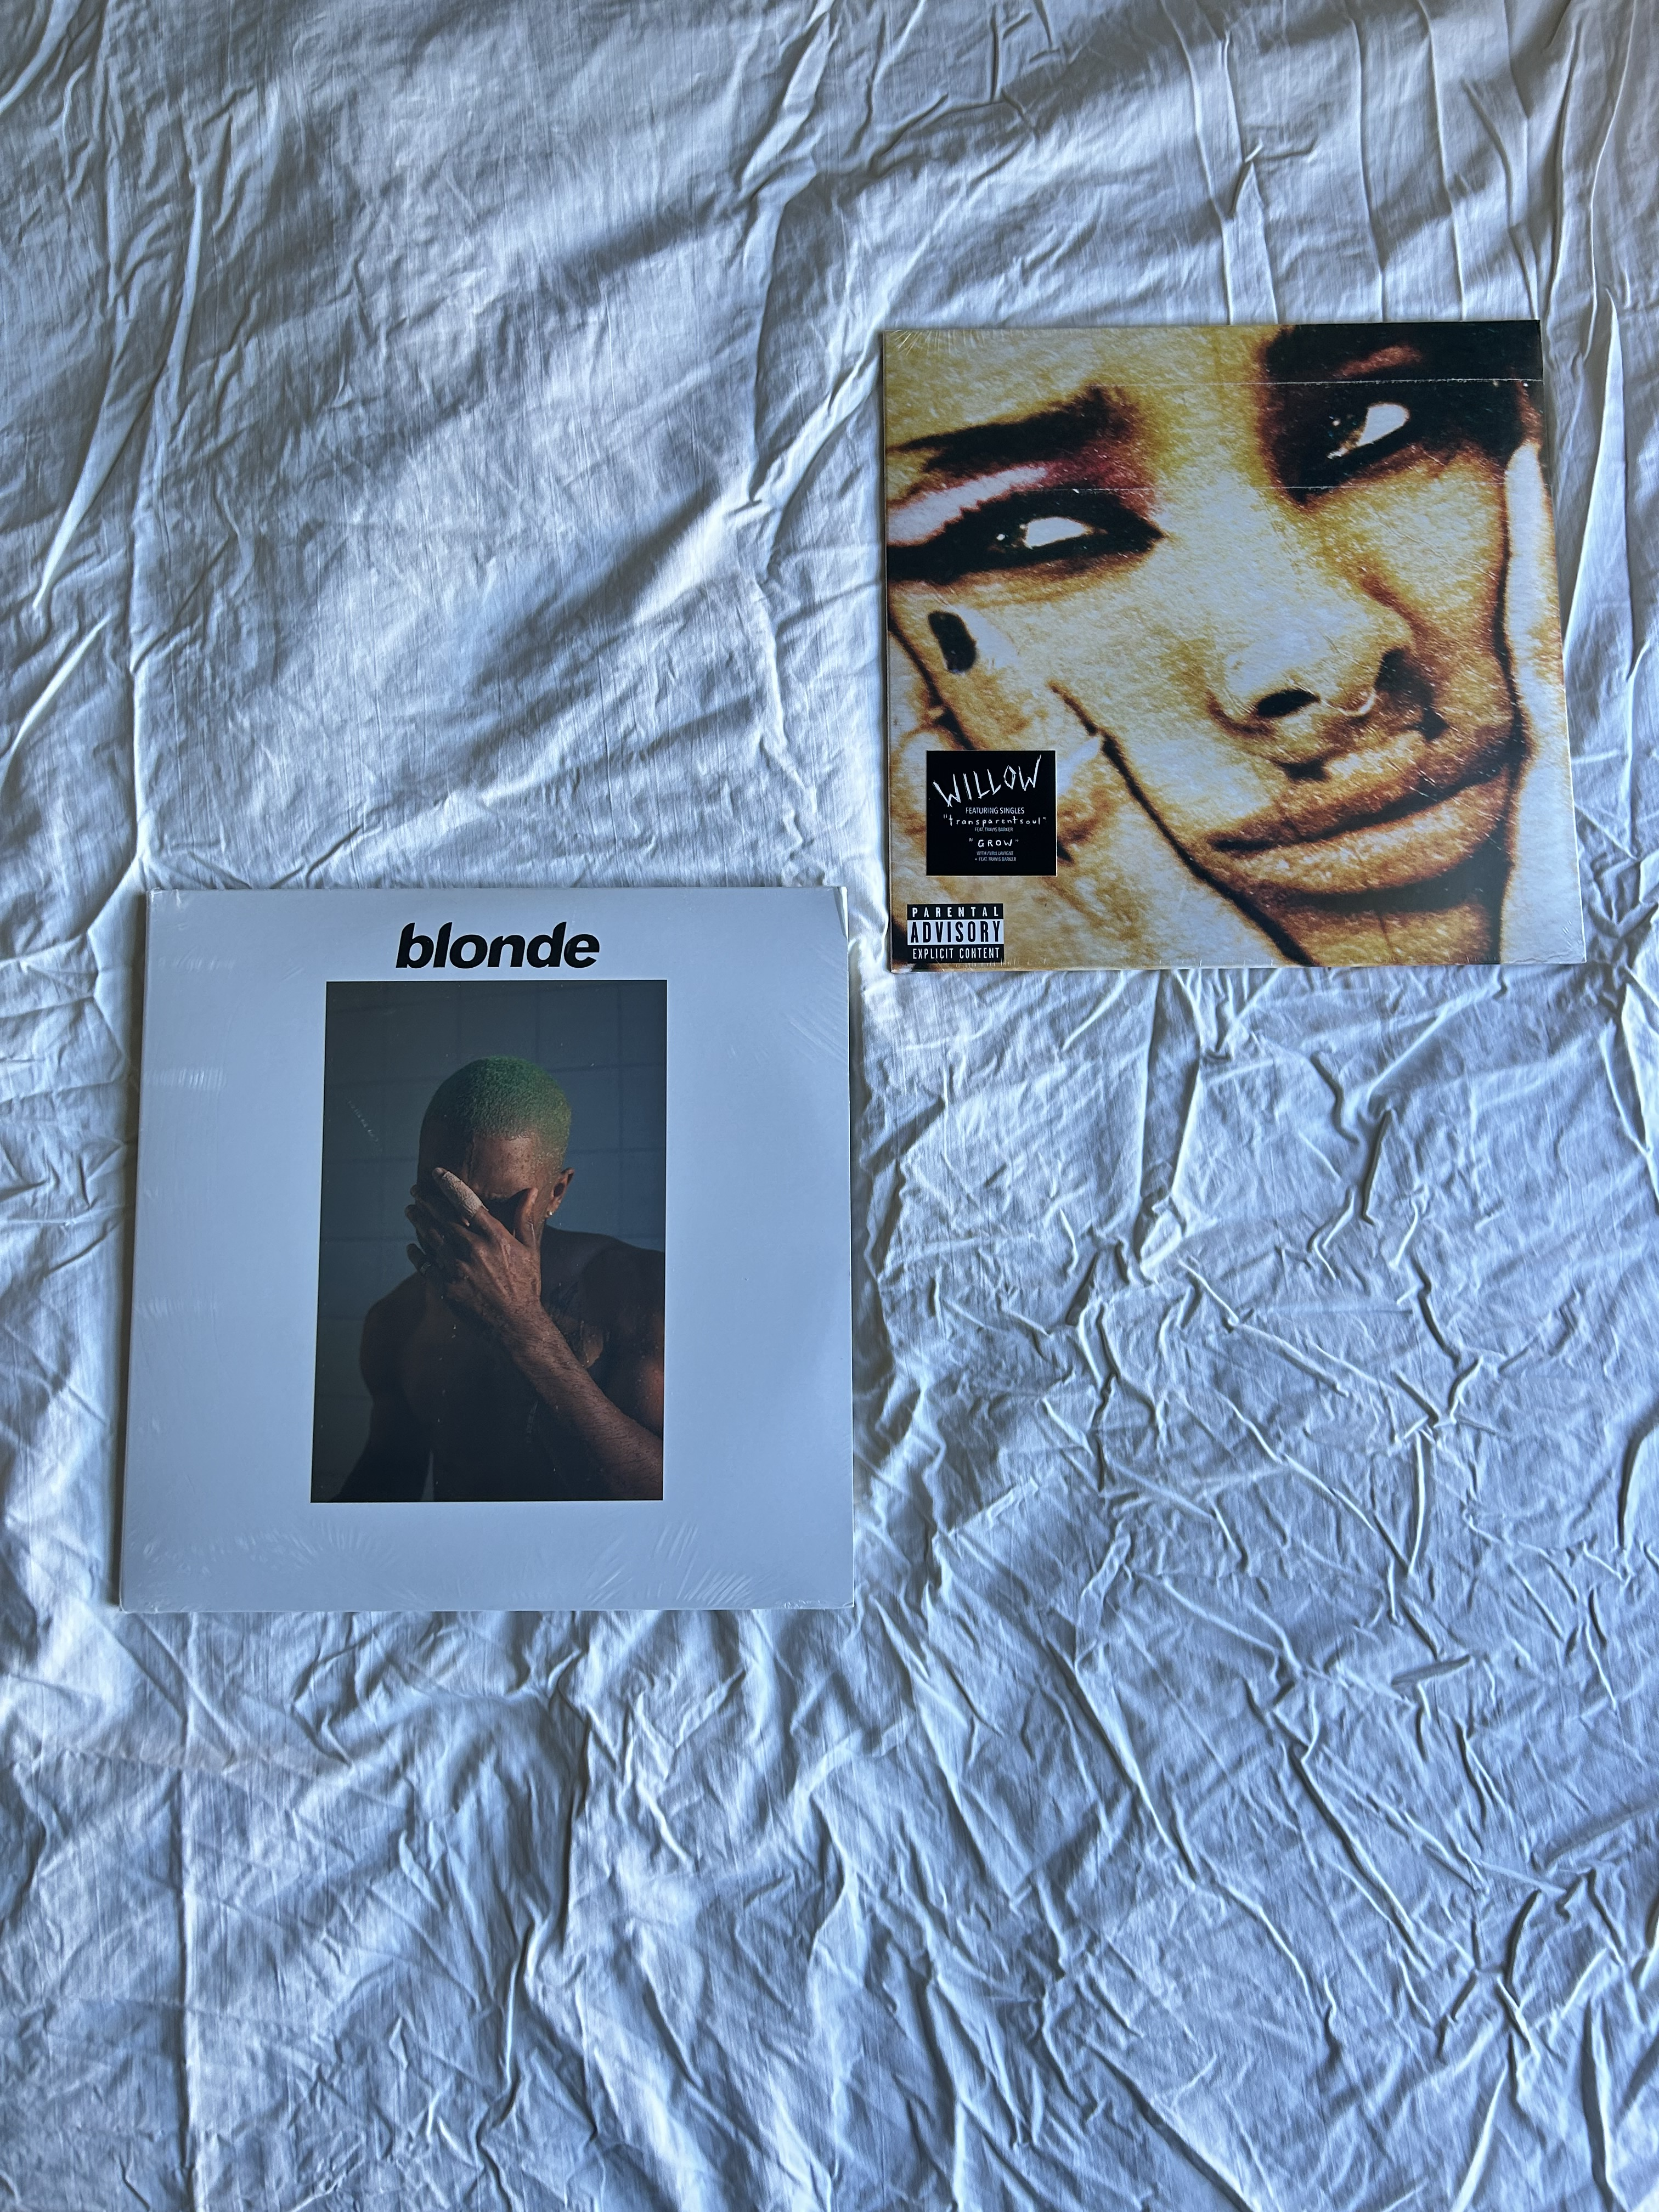frank ocean_blonde: (106, 874, 866, 1615)
willow_lately i feel everything: (878, 320, 1593, 967)
